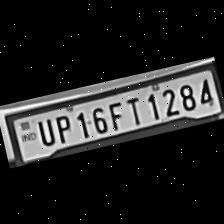1: (140, 88, 162, 122), (69, 108, 92, 140)
2: (156, 84, 180, 118)
4: (191, 74, 216, 108)
6: (85, 103, 110, 136)
8: (174, 79, 199, 113)
F: (103, 97, 128, 131)
P: (49, 110, 75, 145)
T: (122, 93, 146, 127)
U: (32, 114, 57, 148)
